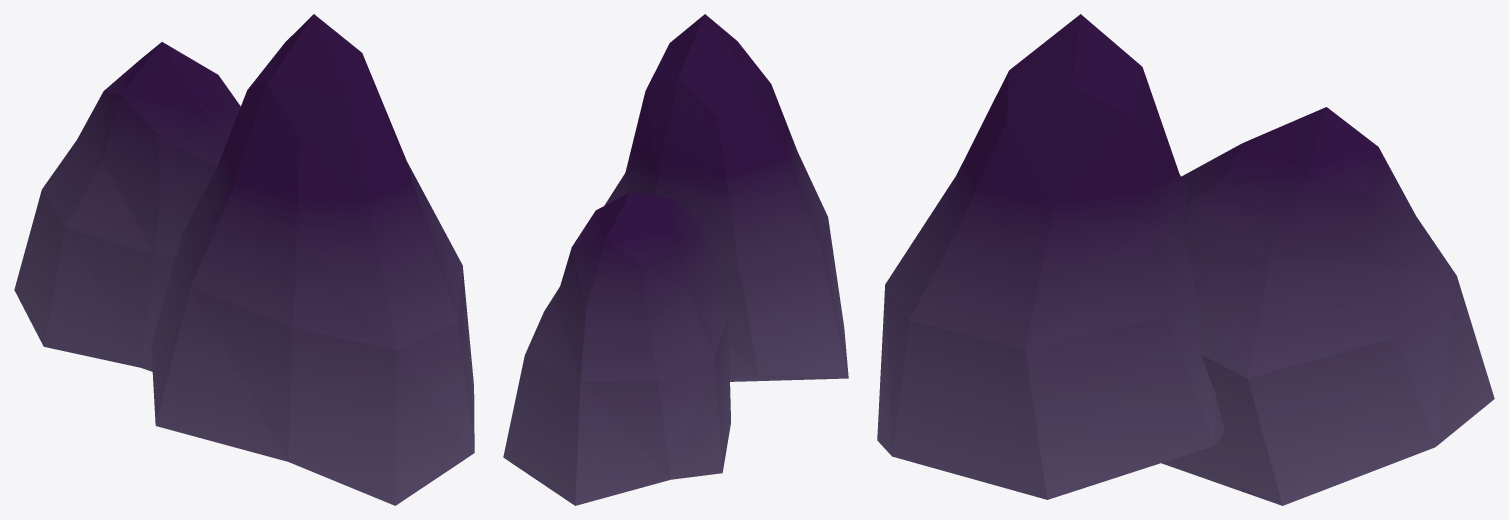
Rendered from rock02.glb.
3 views of the same model, side by side, from view 1: azimuth 30°, elevation 25°; view 2: azimuth 150°, elevation 25°; view 3: azimuth 270°, elevation 25° (orthographic). The views are drawn at different scales.
Visible parts, largest first — view 1: Rock.002; view 2: Rock.002; view 3: Rock.002.
Boxes of the visible parts, x1=… form: Rock.002: x1=14, y1=14, x2=474, y2=505; Rock.002: x1=503, y1=14, x2=848, y2=505; Rock.002: x1=877, y1=14, x2=1494, y2=505.
Size of the model in its own units: 2.71 by 3.73 by 4.56.
Materials: 1 (1 with a texture image).
